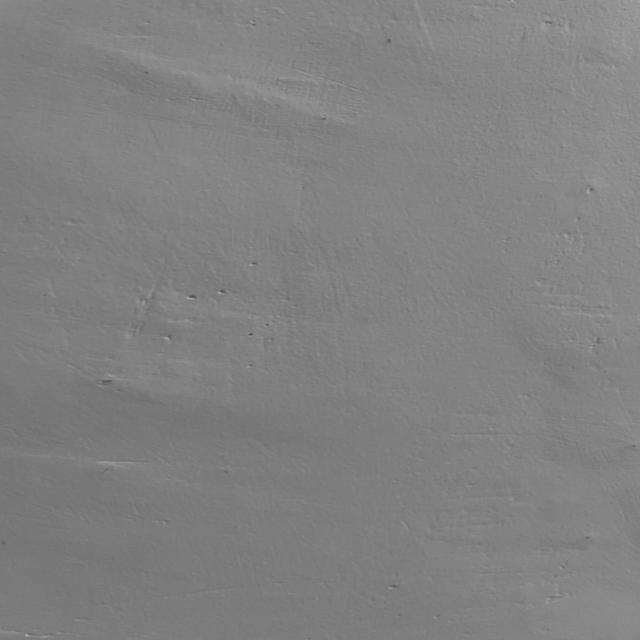pin holes: (240, 254, 269, 271), (180, 288, 203, 308), (260, 316, 276, 332), (248, 17, 264, 33), (215, 284, 230, 298), (241, 328, 256, 338)
rough and patchy surface: (0, 0, 640, 640)
